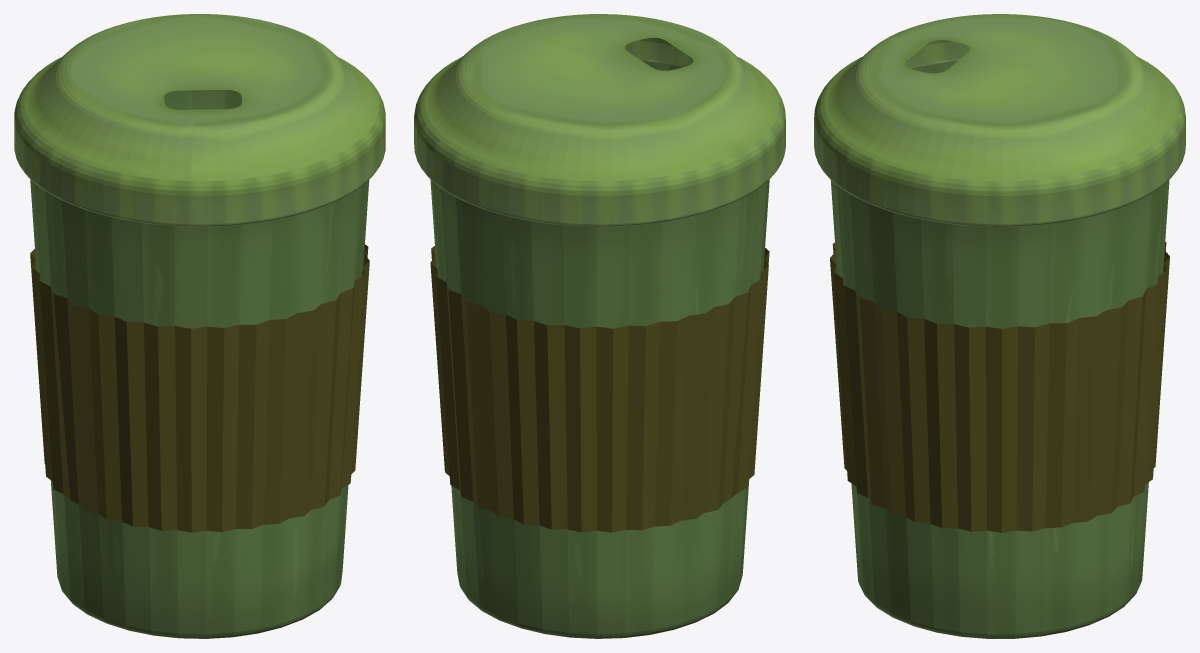
The model's file is termo.obj.
3 renders of one model, left to right at view 1: azimuth 30°, elevation 25°; view 2: azimuth 150°, elevation 25°; view 3: azimuth 270°, elevation 25°, orthographic.
Parts seen in each view (by area): view 1: Cylinder.001; view 2: Cylinder.001; view 3: Cylinder.001.
Part boxes in pixels (x1,y1,x2,y2): Cylinder.001: [14, 14, 385, 638]; Cylinder.001: [414, 14, 785, 638]; Cylinder.001: [814, 14, 1185, 638].
Size of the model in its own units: 1.2 by 1.83 by 1.2.
Materials: 3 (2 with a texture image).
